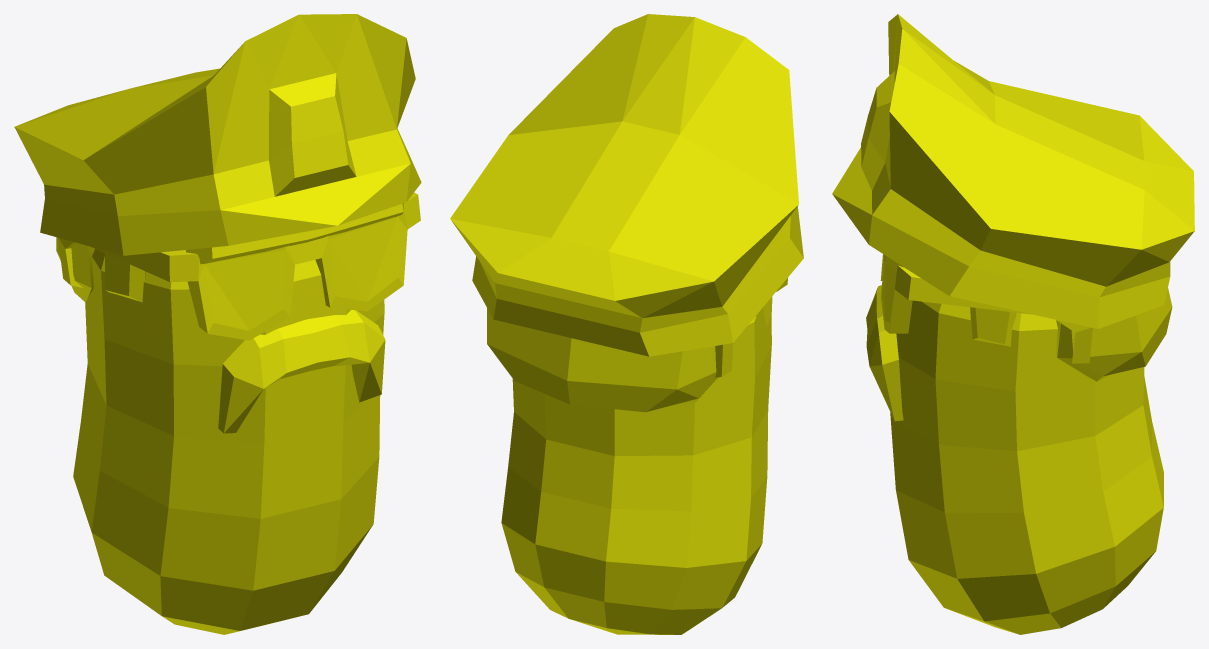
Rendered from SM_Bean_Cop_01.glb.
The picture shows the model from 3 angles, left to right: view 1: azimuth 30°, elevation 25°; view 2: azimuth 150°, elevation 25°; view 3: azimuth 270°, elevation 25°; orthographic projection. The views are drawn at different scales.
Parts seen in each view (by area): view 1: SM_Bean_Cop_01; view 2: SM_Bean_Cop_01; view 3: SM_Bean_Cop_01.
Boxes of the visible parts, x1,y1,x2,y2 form: SM_Bean_Cop_01: (14,14,421,634); SM_Bean_Cop_01: (450,14,803,634); SM_Bean_Cop_01: (832,14,1194,634).
Size of the model in its own units: 1.14 by 2.12 by 1.18.
1 material, 1 textured.
